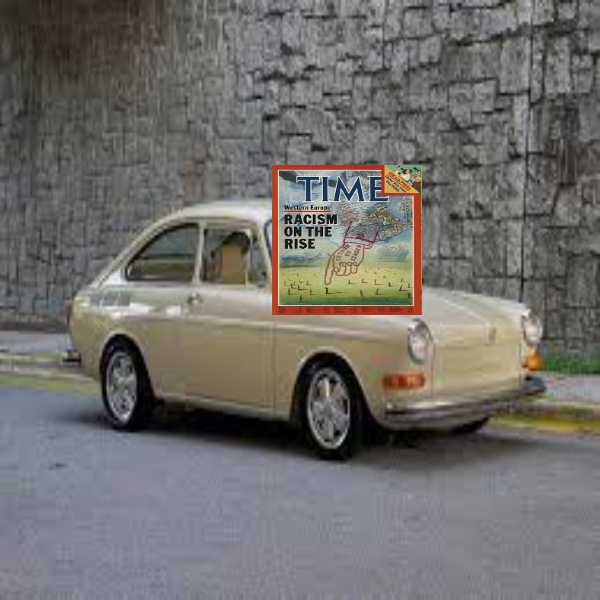time_cover: (270, 160, 421, 316)
